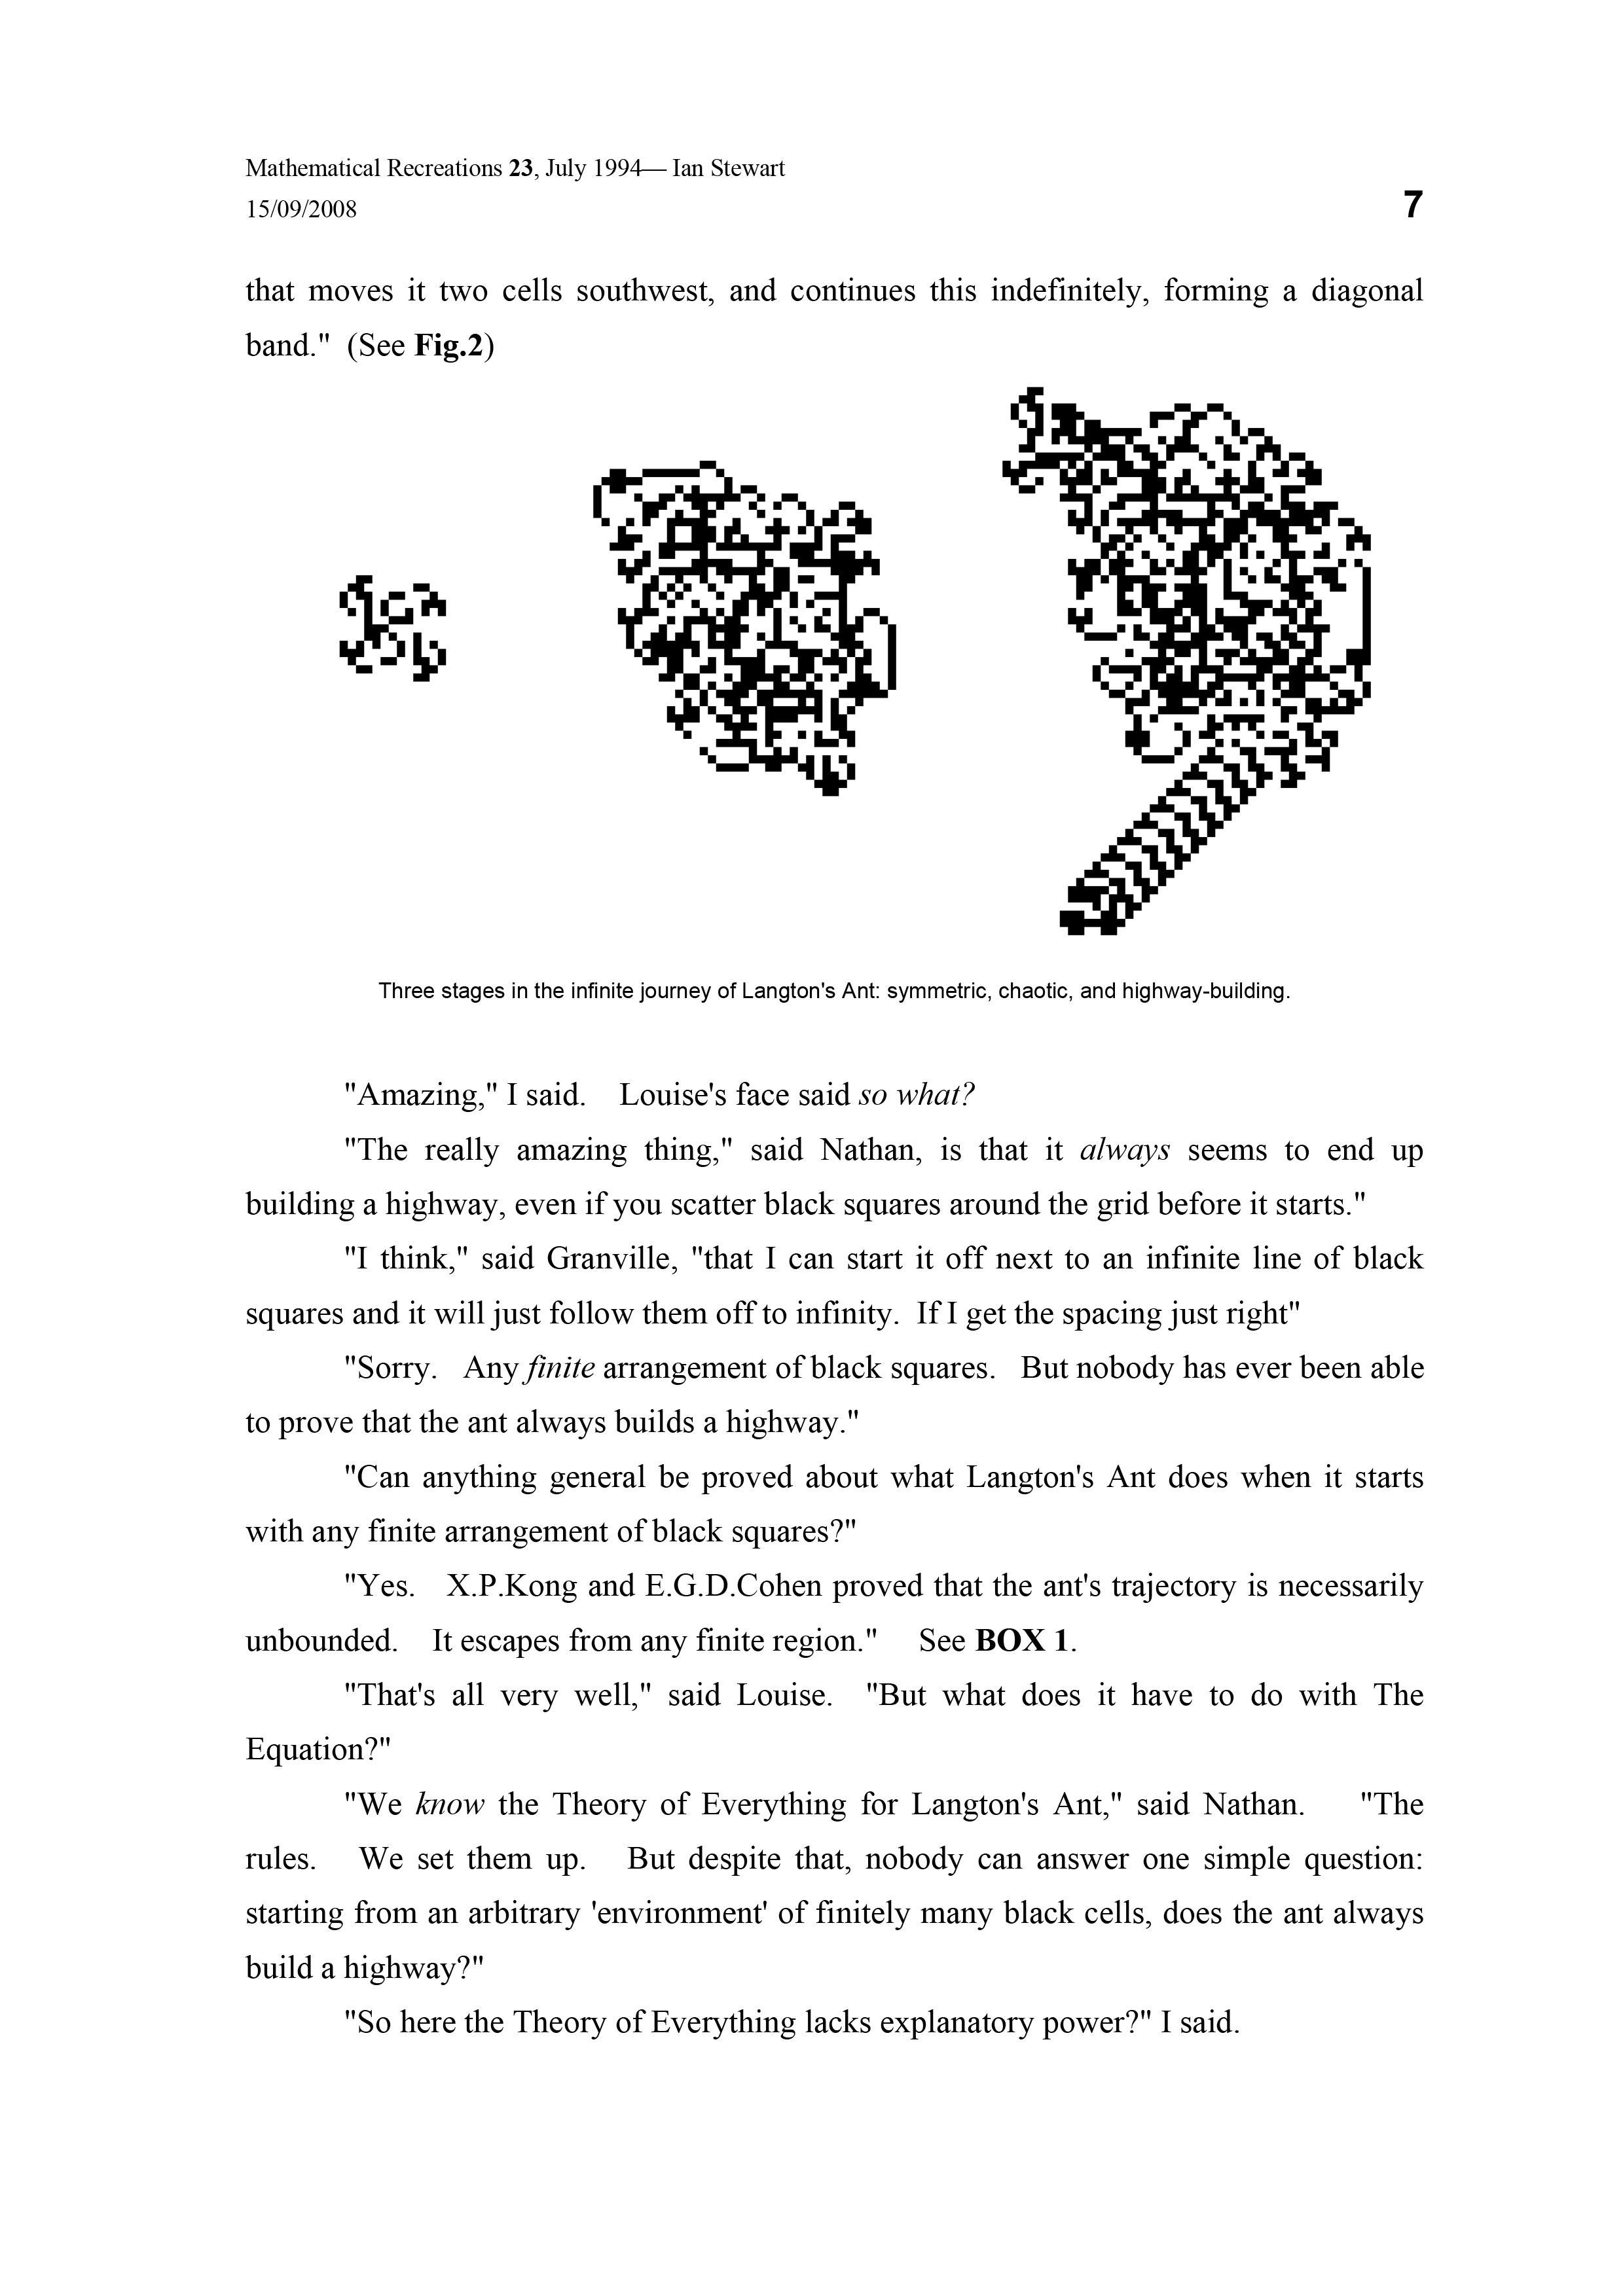caption: (371, 962, 1312, 1008)
figure: (325, 388, 1389, 953)
text: (221, 1057, 1453, 2064), (232, 270, 1456, 353), (211, 144, 797, 225)
